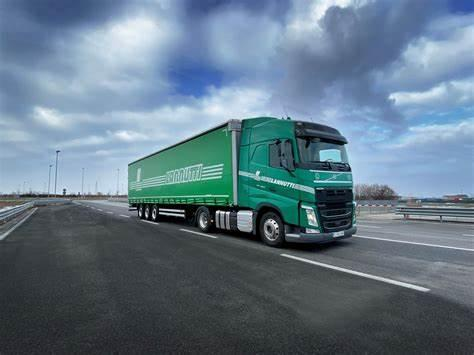truck: (121, 115, 375, 248)
